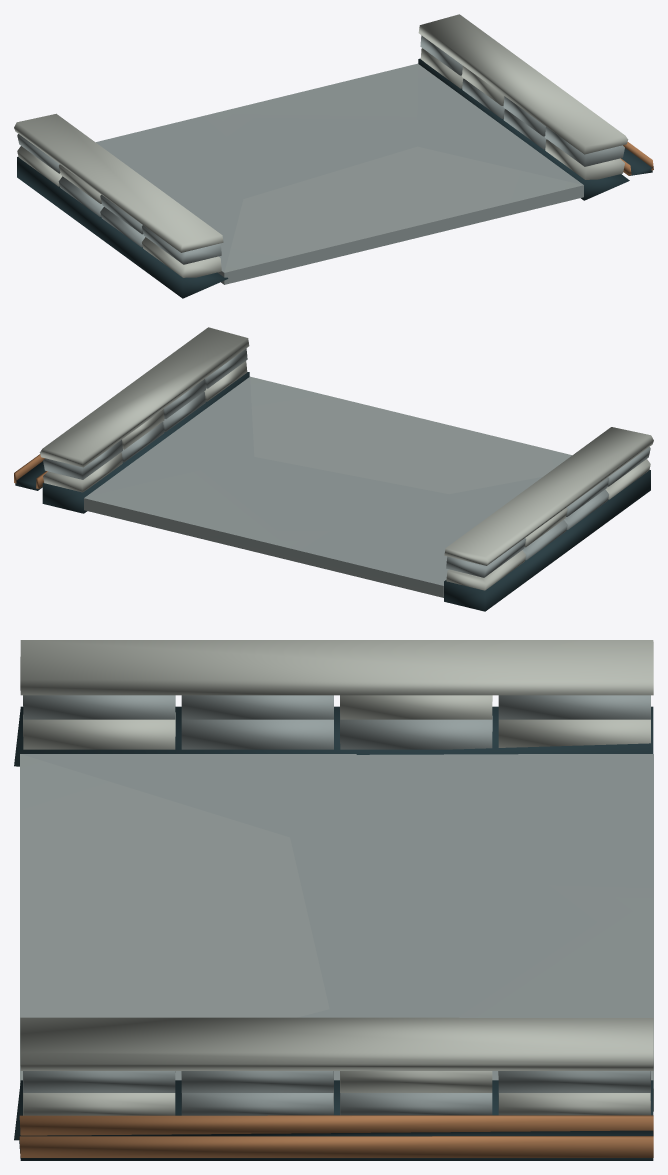
The model's file is STURMBASTION_CORRIDOR_TILE.shadow.glb.
3 renders of one model, top to bottom at view 1: azimuth 30°, elevation 25°; view 2: azimuth 150°, elevation 25°; view 3: azimuth 270°, elevation 25°, orthographic. The views are drawn at different scales.
Visible parts, largest first — view 1: STURMBASTION_CORRIDOR_TILE_Geometry; view 2: STURMBASTION_CORRIDOR_TILE_Geometry; view 3: STURMBASTION_CORRIDOR_TILE_Geometry.
Part boxes in pixels (x1,y1,x2,y2): STURMBASTION_CORRIDOR_TILE_Geometry: [14, 14, 653, 298]; STURMBASTION_CORRIDOR_TILE_Geometry: [14, 327, 653, 611]; STURMBASTION_CORRIDOR_TILE_Geometry: [14, 640, 653, 1160].
Bounding box in the file's own units: 13.18 × 1.47 × 8.08.
